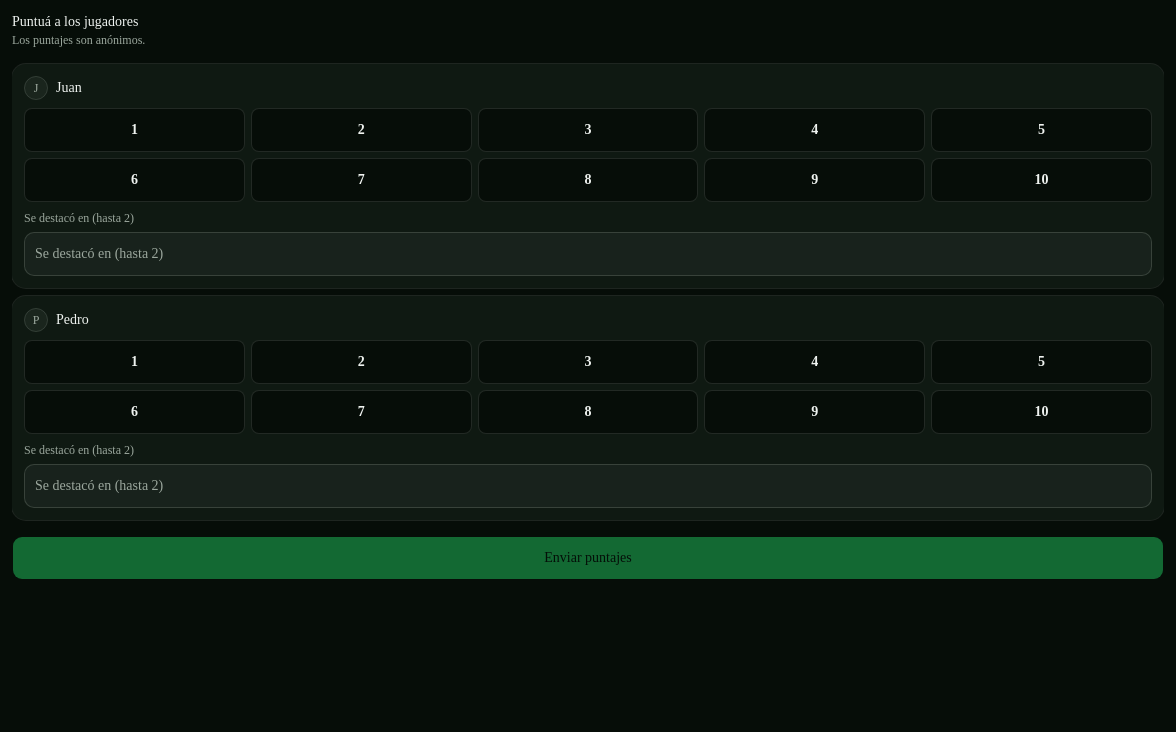
Test case: RatingForm › enforces a max of 2 standout attributes per player
This screenshot has width=1176, height=732.
In the field with placeholder "Se destacó en (hasta 2)" below "Juan": [588, 254] box [24, 232, 1152, 276], type "Definición"
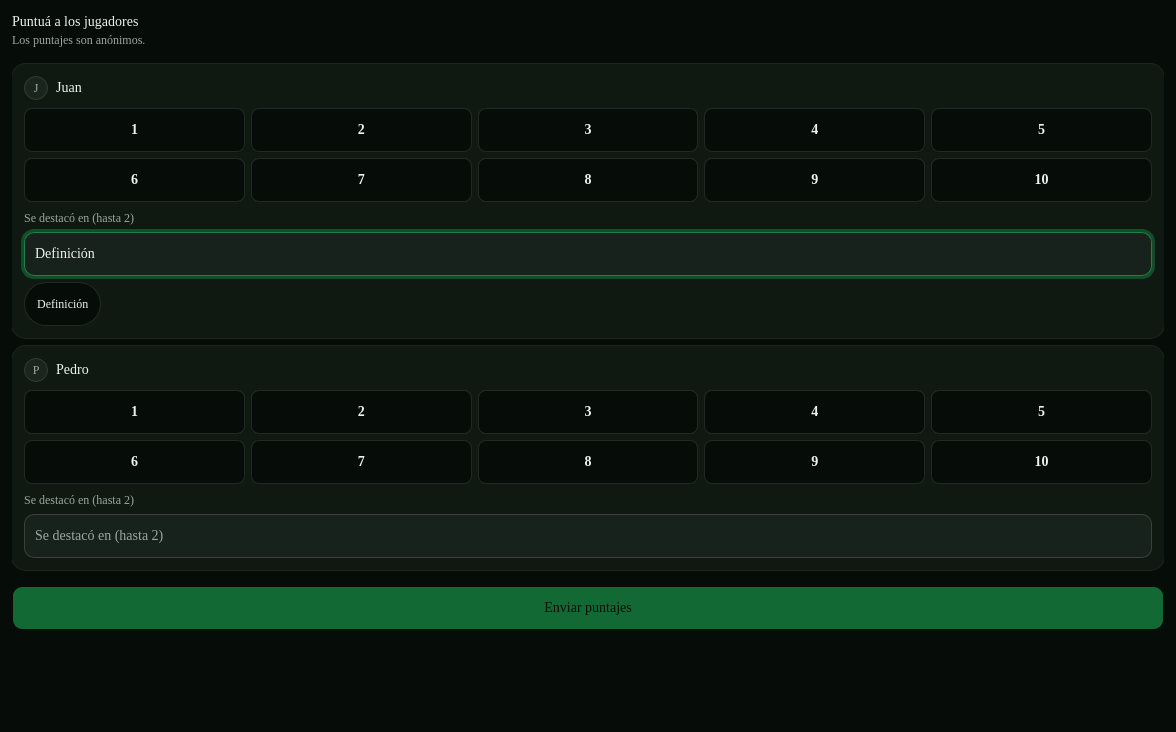
Click the button "Definición": [63, 304] box [24, 282, 101, 326]
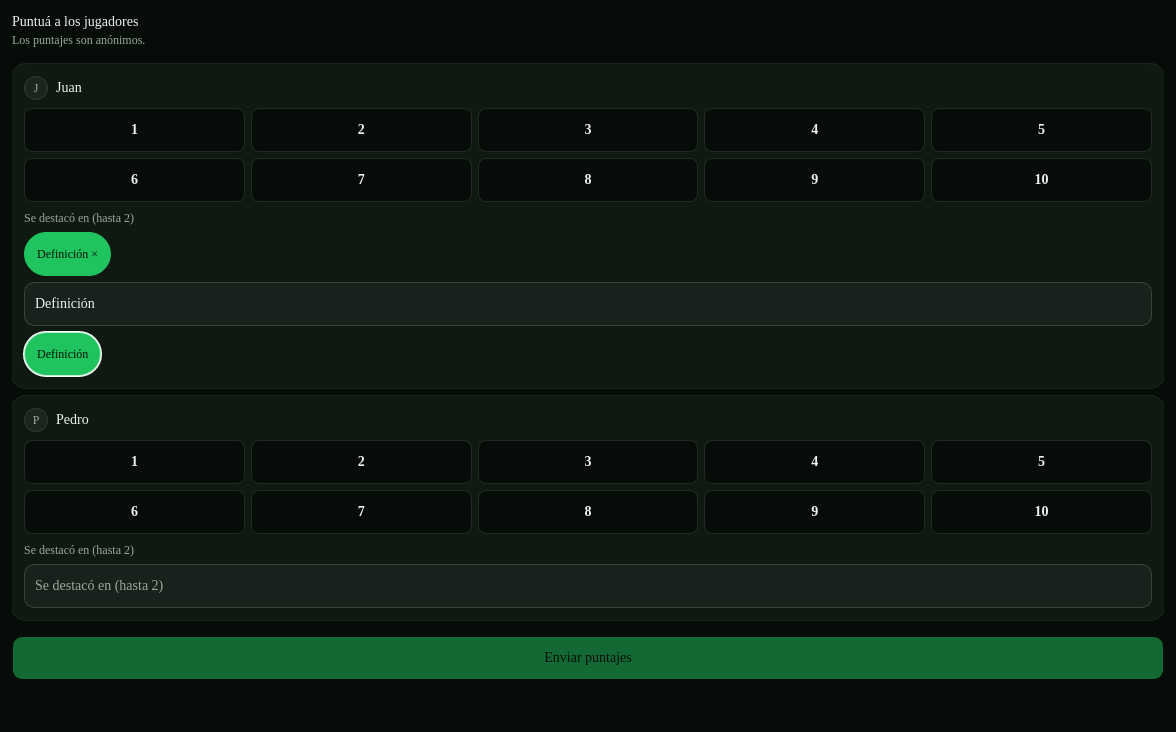
Replace the text in the field with placeholder "Se destacó en (hasta 2)" with "Visión": [588, 304] box [24, 282, 1152, 326]
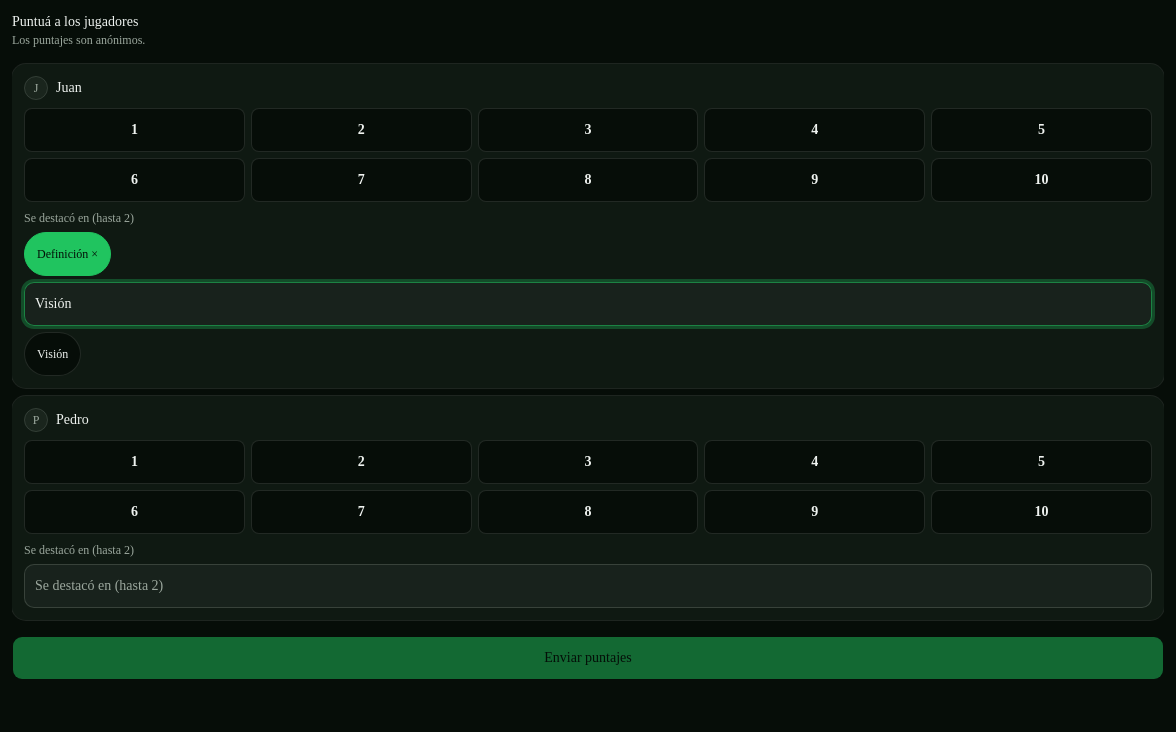
Click the button "Visión": [53, 354] box [24, 332, 81, 376]
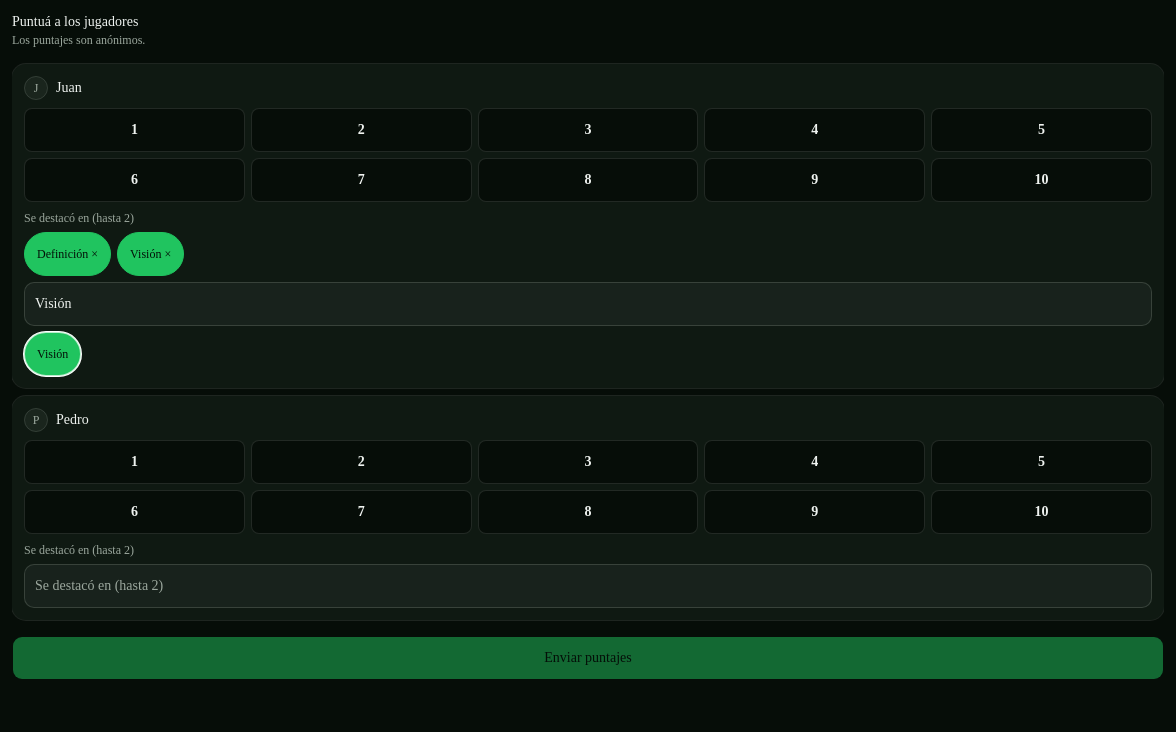
Replace the text in the field with placeholder "Se destacó en (hasta 2)" with "Regate": [588, 304] box [24, 282, 1152, 326]
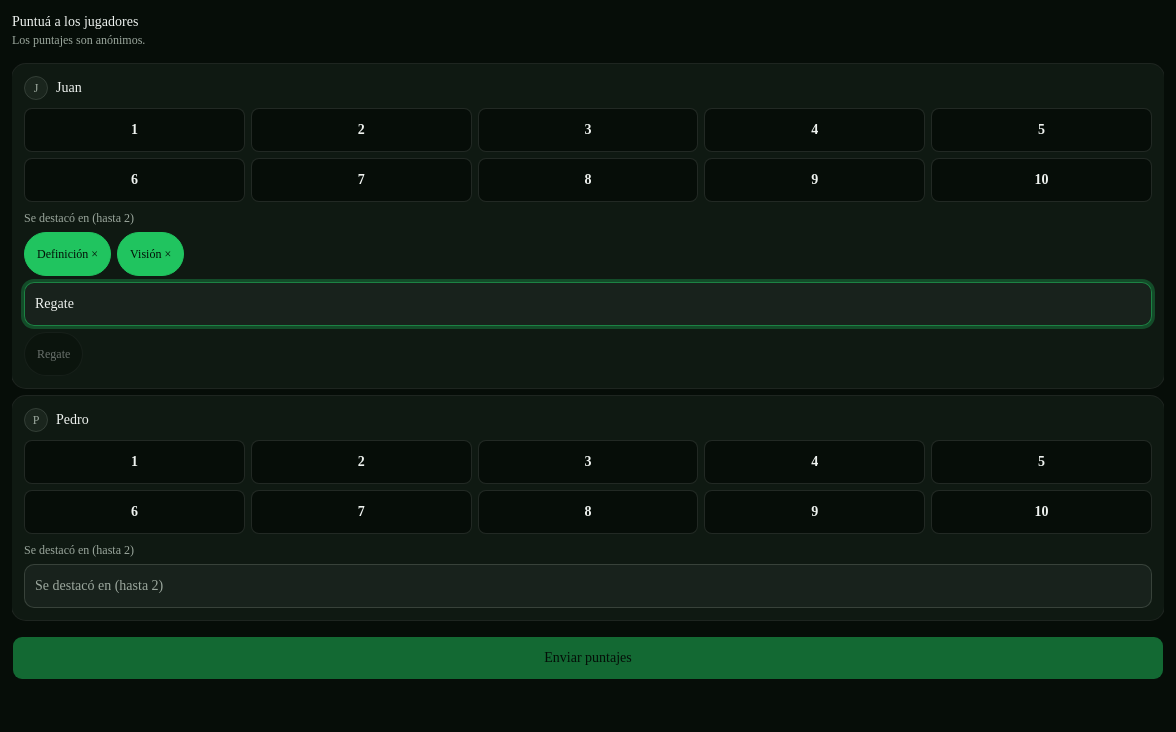
Now the button "Definición ×" is shown, box [24, 232, 111, 276]
Now the button "Visión ×" is shown, box [117, 232, 184, 276]
Now the button "Regate" is disabled, box [24, 332, 83, 376]
